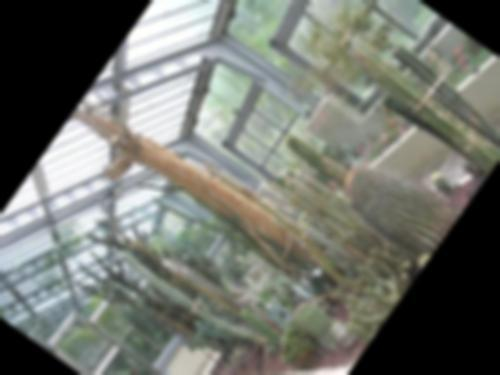Puerta: (46, 307, 190, 375)
